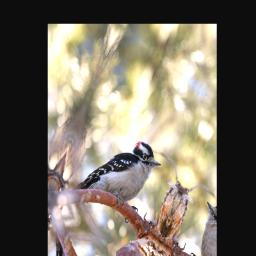Woodpecker: (74, 111, 164, 237)
